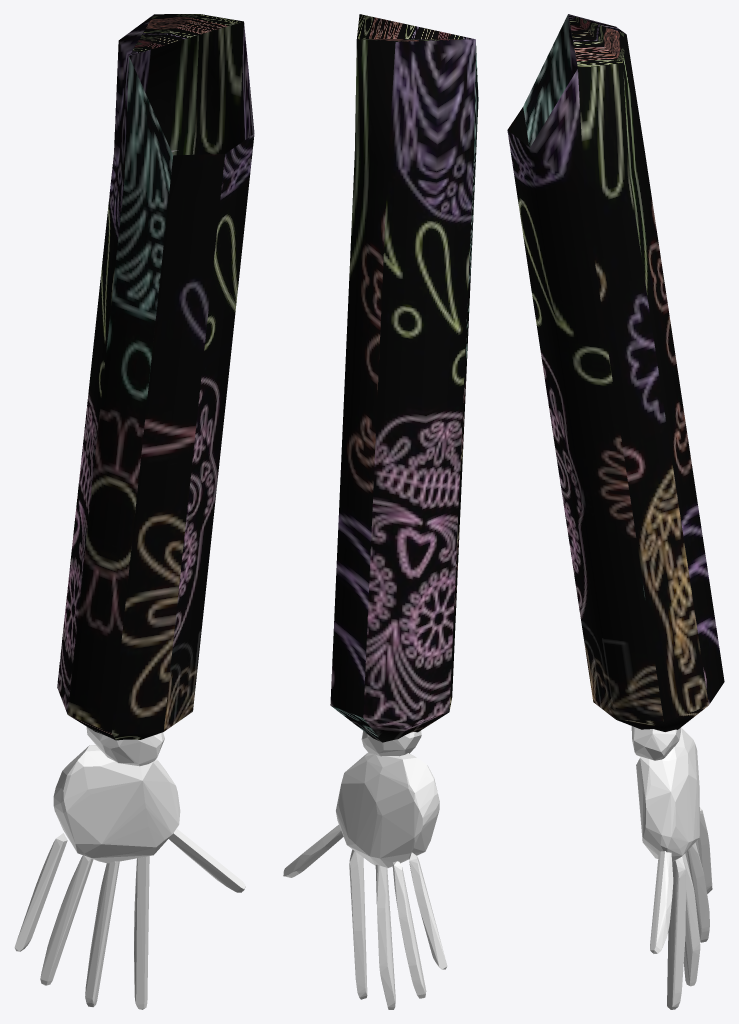
Rendered from brazo-iz.obj.
3 renders of one model, left to right at view 1: azimuth 30°, elevation 25°; view 2: azimuth 150°, elevation 25°; view 3: azimuth 270°, elevation 25°, orthographic. The views are drawn at different scales.
Visible parts, largest first — view 1: Object_13.001, Object_7.001; view 2: Object_13.001, Object_7.001; view 3: Object_13.001, Object_7.001.
Part boxes in pixels (x1=…): Object_13.001: x1=57, y1=14, x2=254, y2=740; Object_7.001: x1=14, y1=150, x2=245, y2=1009; Object_13.001: x1=330, y1=14, x2=478, y2=742; Object_7.001: x1=283, y1=730, x2=447, y2=1009; Object_13.001: x1=507, y1=14, x2=724, y2=731; Object_7.001: x1=631, y1=726, x2=712, y2=1009.
Bounding box in the file's own units: 0.1393 × 0.6642 × 0.1348.
2 materials, 2 textured.
